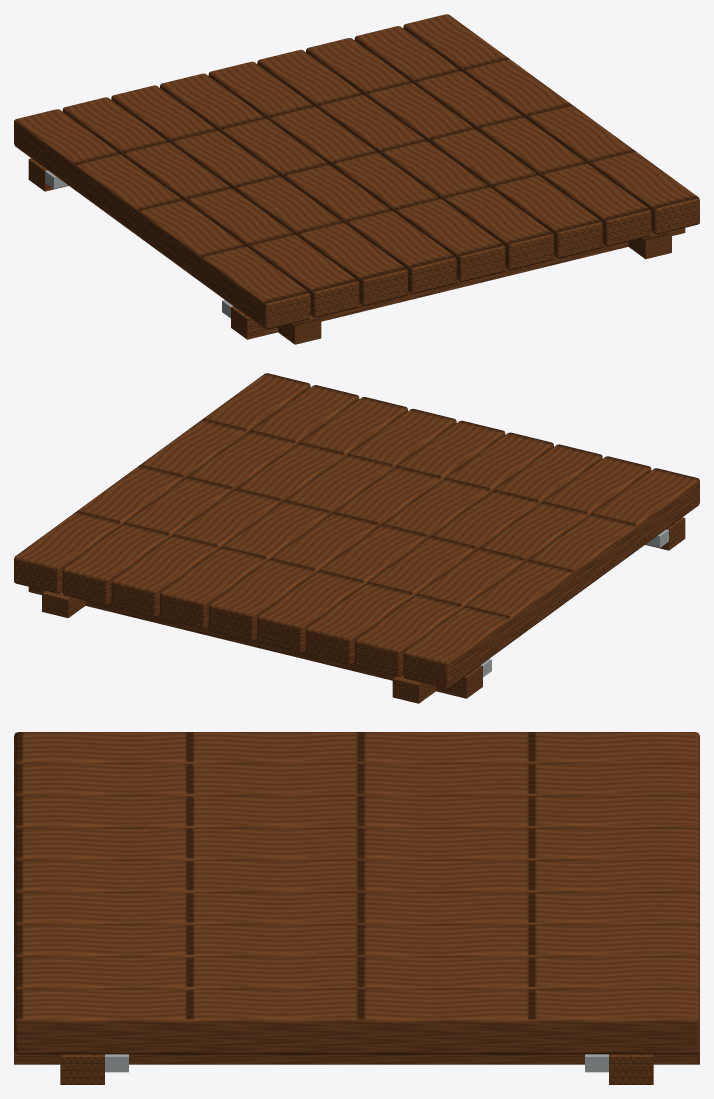
File: modular-survival-base-builder-plank-floor-reinforced-3dc64749__24276.glb
3 renders of one model, top to bottom at view 1: azimuth 30°, elevation 25°; view 2: azimuth 150°, elevation 25°; view 3: azimuth 270°, elevation 25°, orthographic. The views are drawn at different scales.
Parts seen in each view (by area): view 1: plank-floor-reinforced; view 2: plank-floor-reinforced; view 3: plank-floor-reinforced.
Part boxes in pixels (x1=…): plank-floor-reinforced: x1=14, y1=14, x2=699, y2=344; plank-floor-reinforced: x1=14, y1=373, x2=699, y2=703; plank-floor-reinforced: x1=14, y1=732, x2=699, y2=1084.
Bounding box in the file's own units: 2 × 0.21 × 2.
2 materials, 1 textured.
